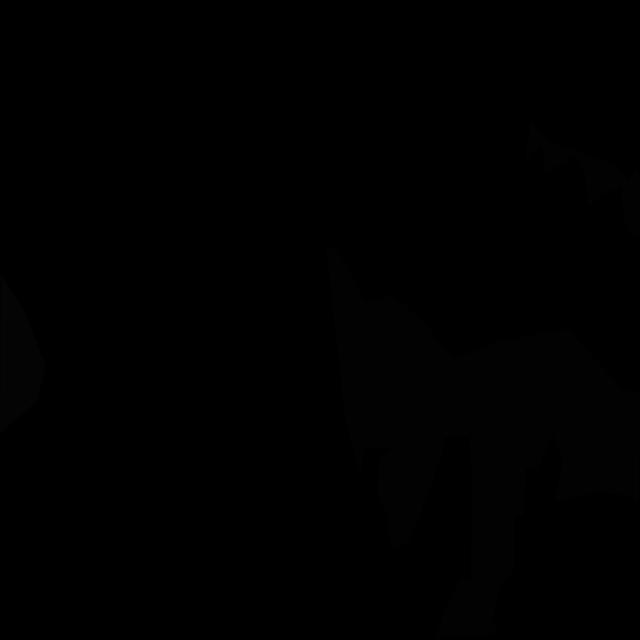cardboard: (325, 243, 623, 638), (553, 389, 640, 508), (542, 143, 620, 206), (619, 167, 640, 236), (526, 121, 548, 160)
soft_plastic: (0, 274, 46, 433)
